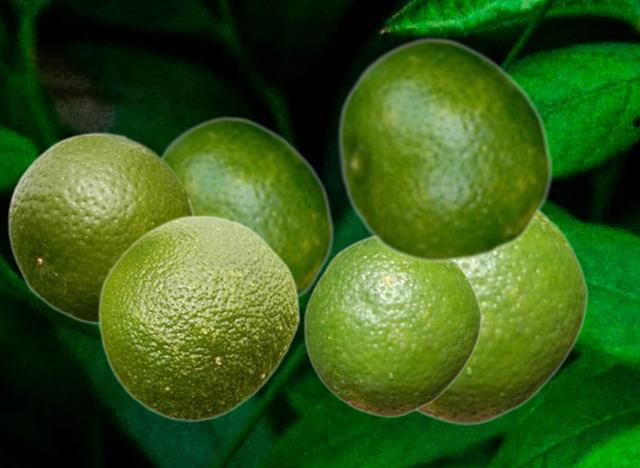calamansi: (336, 36, 553, 263), (97, 214, 299, 422), (416, 210, 587, 425), (7, 130, 196, 324), (303, 235, 481, 417), (159, 115, 334, 300)
